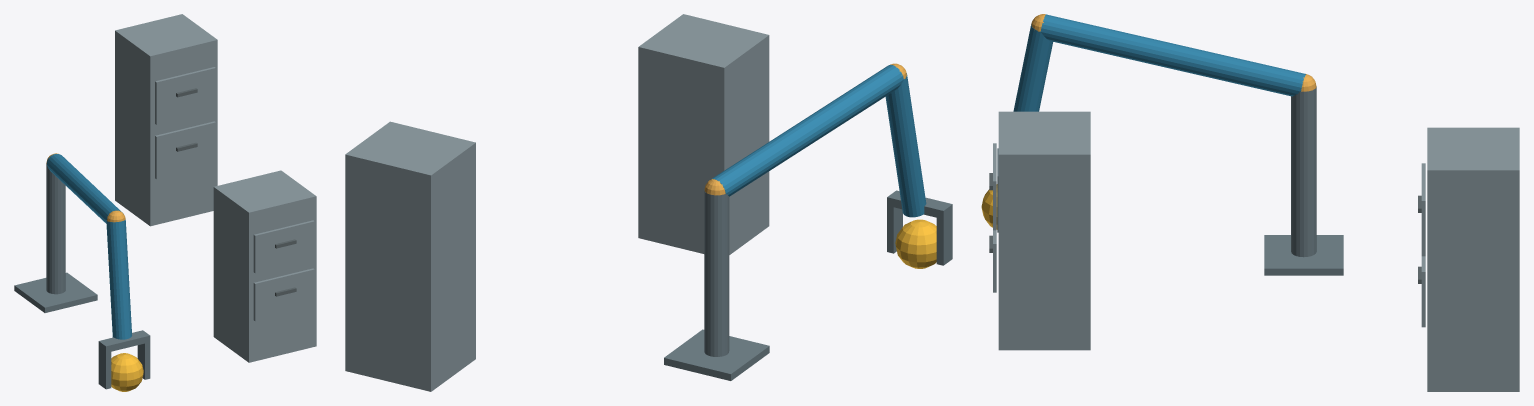
The picture shows the model from 3 angles, left to right: view 1: azimuth 30°, elevation 25°; view 2: azimuth 150°, elevation 25°; view 3: azimuth 270°, elevation 25°; orthographic projection. The views are drawn at different scales.
Parts seen in each view (by area): view 1: cabinet_2 body, cabinet_1 body, cabinet_2 drawer front, cabinet_2 drawer front.001, moving link 2, cabinet_1 drawer front, cabinet_1 drawer front.001, fixed post, pedestal, moving link 1, ball ball_1, gripper bridge (+2 smaller); view 2: cabinet_2 body, cabinet_1 body, moving link 1, fixed post, moving link 2, pedestal, ball ball_1, gripper finger -1, gripper bridge, gripper finger 1; view 3: cabinet_2 body, cabinet_1 body, moving link 1, fixed post, pedestal, moving link 2, cabinet_2 drawer front.001.
Part boxes in pixels (box(x1,y1,x2,y2)): cabinet_2 body: box(115, 14, 217, 226); cabinet_1 body: box(213, 170, 316, 362); cabinet_2 drawer front: box(155, 121, 215, 179); cabinet_2 drawer front.001: box(155, 67, 215, 124); moving link 2: box(106, 219, 131, 339); cabinet_1 drawer front: box(253, 268, 314, 321); cabinet_1 drawer front.001: box(253, 220, 314, 273); fixed post: box(46, 164, 65, 294); pedestal: box(14, 272, 97, 312); moving link 1: box(46, 154, 123, 223); ball ball_1: box(111, 353, 143, 391); gripper bridge: box(98, 330, 150, 352); cabinet_2 body: box(345, 121, 475, 391); cabinet_1 body: box(638, 14, 769, 254); moving link 1: box(710, 65, 903, 196); fixed post: box(704, 191, 729, 356); moving link 2: box(885, 73, 926, 217); pedestal: box(664, 329, 769, 380); ball ball_1: box(895, 219, 936, 268); gripper finger -1: box(936, 213, 952, 265); gripper bridge: box(887, 190, 952, 219); gripper finger 1: box(887, 205, 902, 253); cabinet_2 body: box(1427, 127, 1519, 391); cabinet_1 body: box(998, 111, 1090, 350); moving link 1: box(1040, 14, 1305, 96); fixed post: box(1291, 87, 1316, 257); pedestal: box(1264, 235, 1343, 275); moving link 2: box(1013, 24, 1052, 111); cabinet_2 drawer front.001: box(1421, 163, 1425, 256).
Size of the model in its own units: 1.31 by 0.77 by 1.69.
